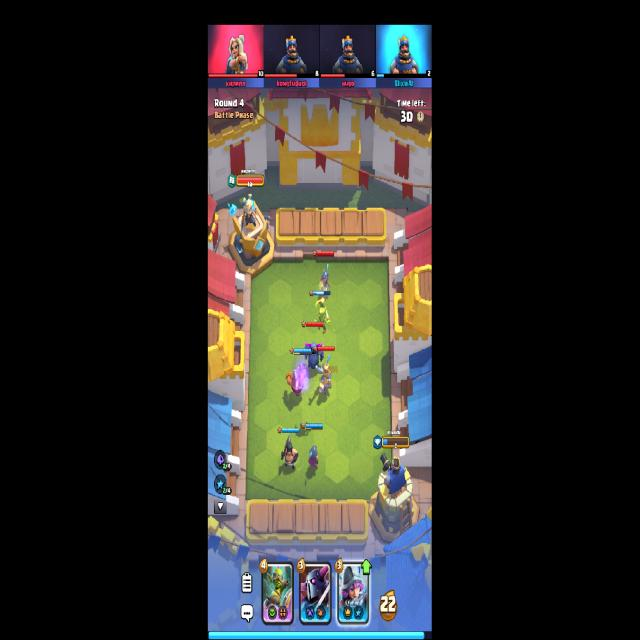card_goblin_machine: (260, 563, 294, 626)
card_musketeer: (336, 560, 369, 626)
card_pekka: (298, 561, 332, 625)
executioner: (282, 436, 298, 470)
goblin: (316, 306, 332, 334)
monk: (287, 364, 306, 394)
musketeer: (319, 262, 331, 300), (307, 444, 319, 471)
pekka: (304, 342, 324, 368)
prince: (316, 364, 334, 396)
